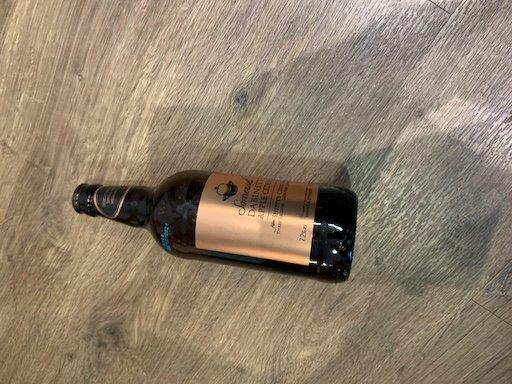botolkaca: (72, 170, 357, 284)
